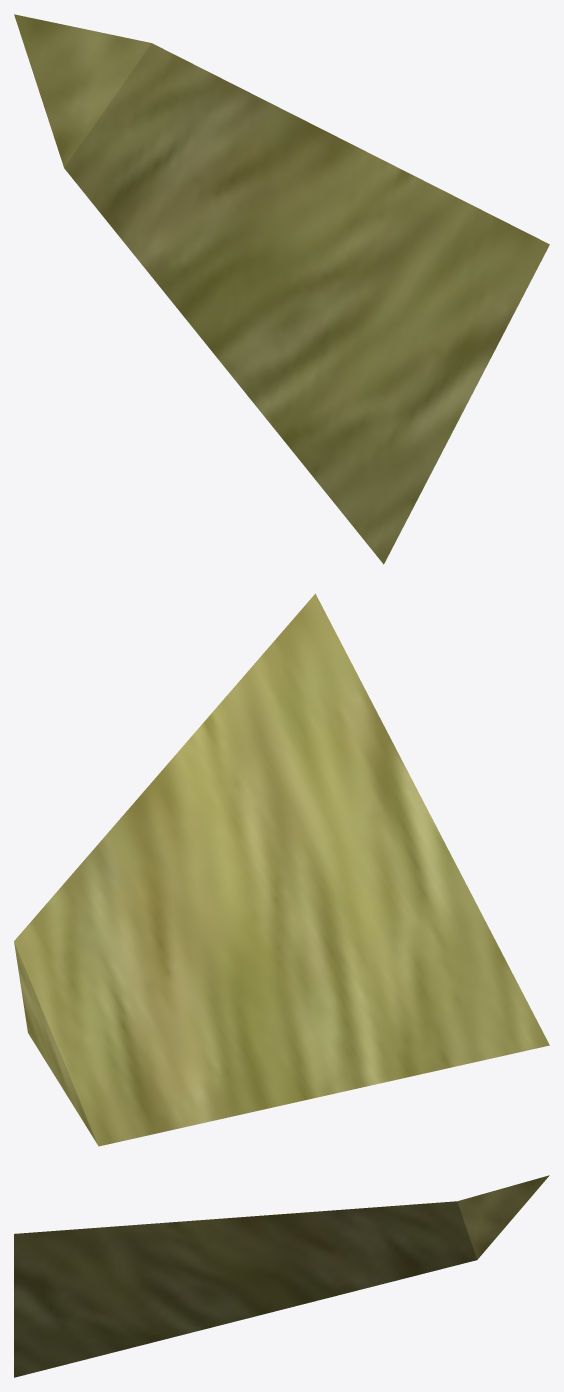
3 renders of one model, top to bottom at view 1: azimuth 30°, elevation 25°; view 2: azimuth 150°, elevation 25°; view 3: azimuth 270°, elevation 25°, orthographic. The views are drawn at different scales.
Bounding box in the file's own units: 0.2333 × 0.3753 × 0.8994.
1 material, 1 textured.
